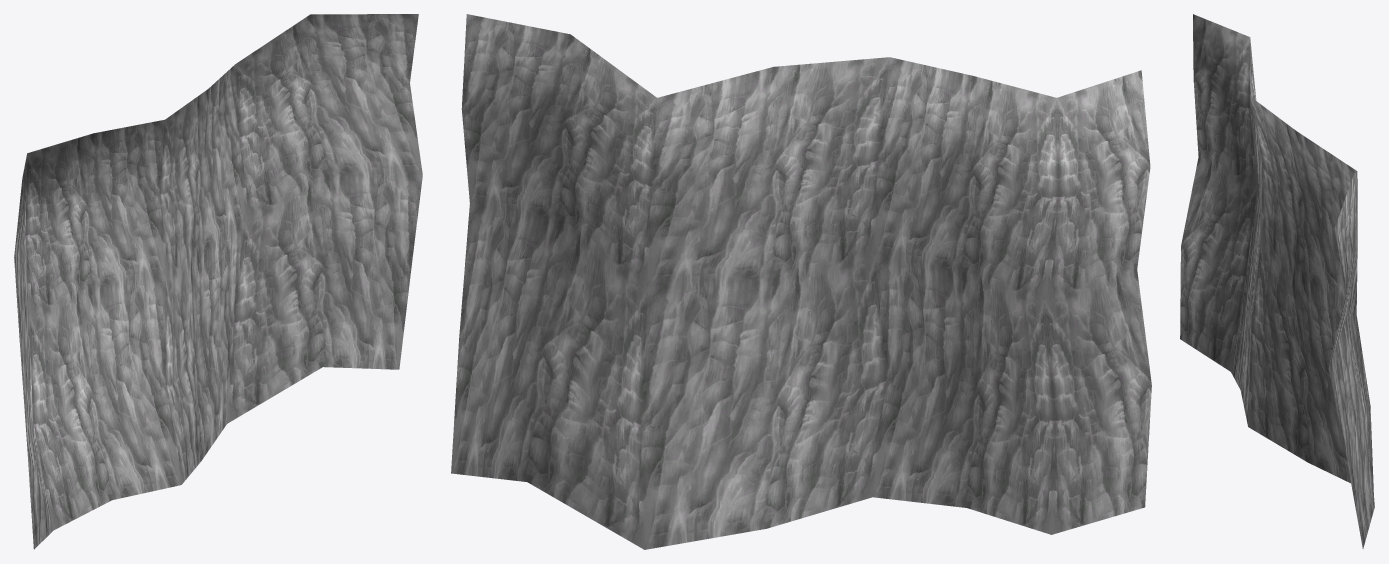
The model's file is SWORDLIGHT20_PS-AREA03_185.fbx.
3 renders of one model, left to right at view 1: azimuth 30°, elevation 25°; view 2: azimuth 150°, elevation 25°; view 3: azimuth 270°, elevation 25°, orthographic. The views are drawn at different scales.
Visible parts, largest first — view 1: SWORDLIGHT20_PS-AREA03_185; view 2: SWORDLIGHT20_PS-AREA03_185; view 3: SWORDLIGHT20_PS-AREA03_185.
Part boxes in pixels (left/top/right/bottom): SWORDLIGHT20_PS-AREA03_185: left=14, top=14, right=422, bottom=549; SWORDLIGHT20_PS-AREA03_185: left=451, top=14, right=1151, bottom=549; SWORDLIGHT20_PS-AREA03_185: left=1180, top=14, right=1374, bottom=548.
Bounding box in the file's own units: 221637 × 174576 × 87495.
1 material, 1 textured.
